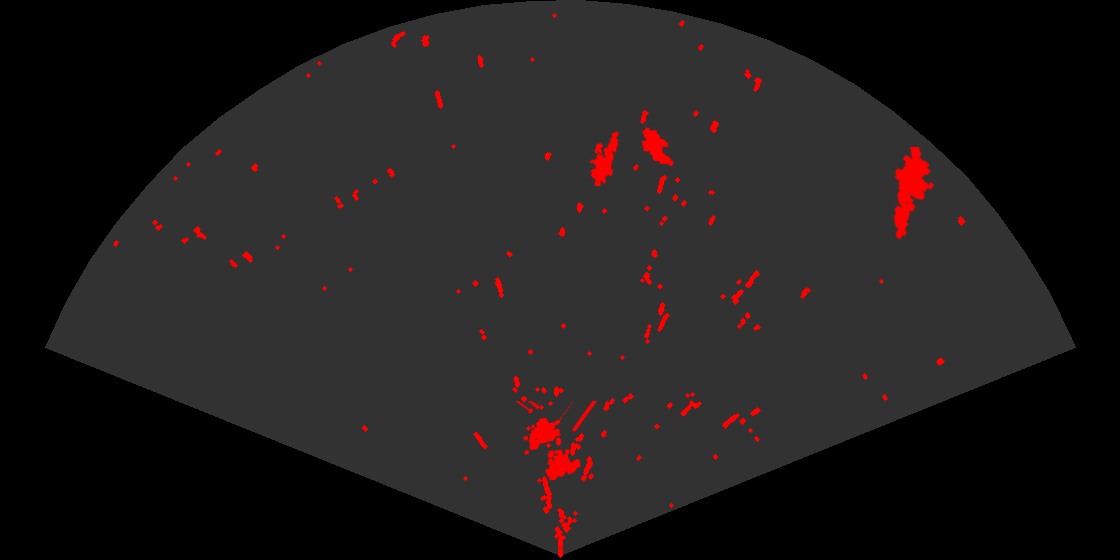AUV: (640, 126, 675, 168)
cage: (514, 401, 598, 482)
frogman: (892, 147, 936, 241), (588, 130, 620, 186)
